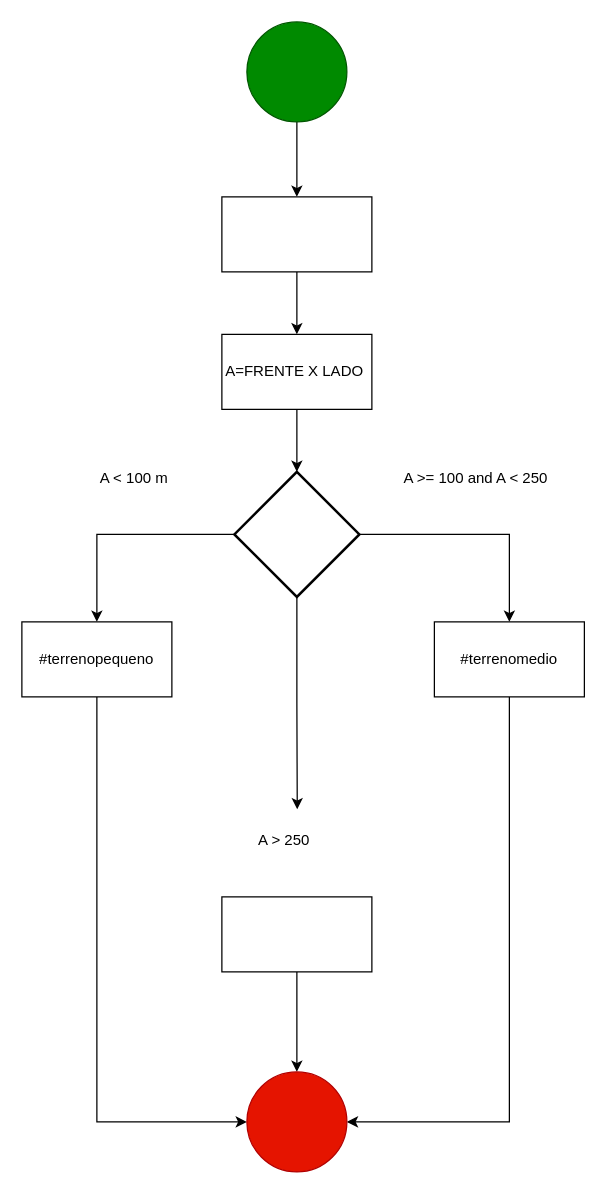
Some shapes in this 606 by 1194 pixel diagram are drawn without their labels. Each missing label, with the centre of its shape:
"#terrenograde" belongs at point 296,934.
"RECEBER MEDIDAS DA FRENTE E LADO DO TERRENO" belongs at point 296,234.
